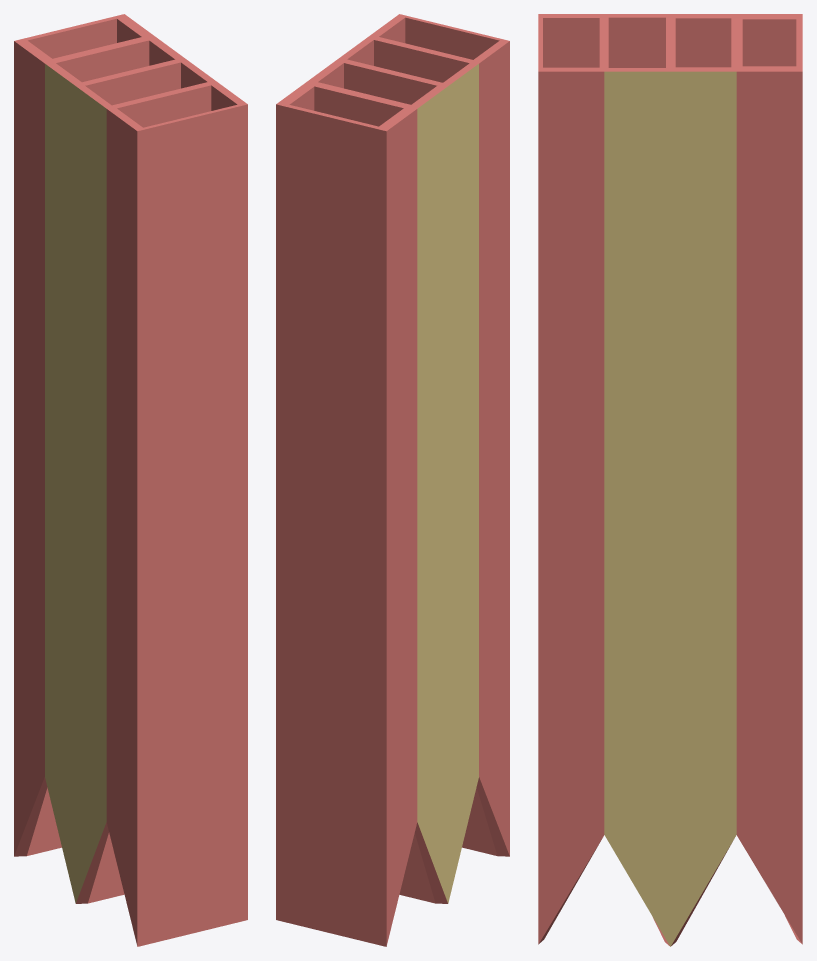
The model's file is droneEngine.fbx.
3 renders of one model, left to right at view 1: azimuth 30°, elevation 25°; view 2: azimuth 150°, elevation 25°; view 3: azimuth 270°, elevation 25°, orthographic. The views are drawn at different scales.
Visible parts, largest first — view 1: aircraftEngine:pCube1; view 2: aircraftEngine:pCube1; view 3: aircraftEngine:pCube1.
Part boxes in pixels (box(x1,y1,x2,y2)): aircraftEngine:pCube1: box(14, 14, 247, 946); aircraftEngine:pCube1: box(276, 14, 509, 946); aircraftEngine:pCube1: box(538, 14, 802, 946).
Bounding box in the file's own units: 0.3931 × 2.78 × 0.7608.
